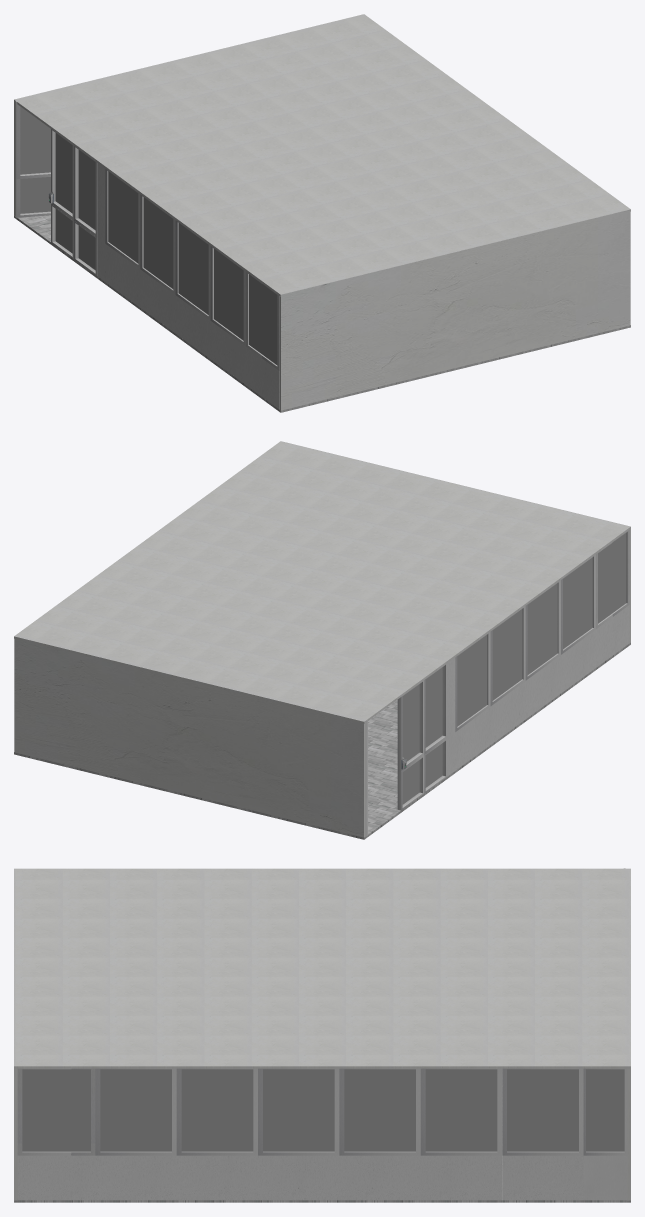
The model's file is Cuartov2.obj.
3 views of the same model, one above another, from view 1: azimuth 30°, elevation 25°; view 2: azimuth 150°, elevation 25°; view 3: azimuth 270°, elevation 25° (orthographic). The views are drawn at different scales.
Visible parts, largest first — view 1: Cuarto; view 2: Cuarto; view 3: Cuarto.
Boxes of the visible parts, x1,y1,x2,y2 form: Cuarto: [14, 14, 630, 412]; Cuarto: [14, 441, 630, 839]; Cuarto: [14, 868, 630, 1202].
Size of the model in its own units: 111 by 35.4 by 145.
Materials: 21 (19 with a texture image).
